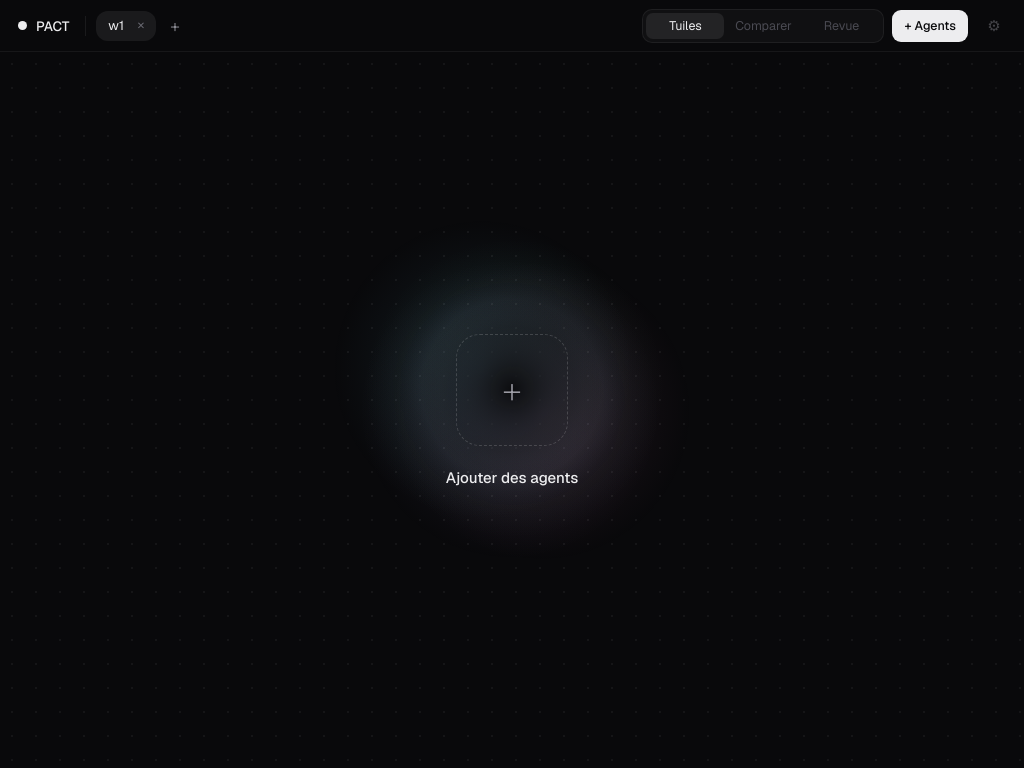
Scenario: App launch flow (US2) › describes the permission levels for the launched CLIs only
Click the button "+ Ajouter des agents" at point(74, 410), box [14,66,1010,754]
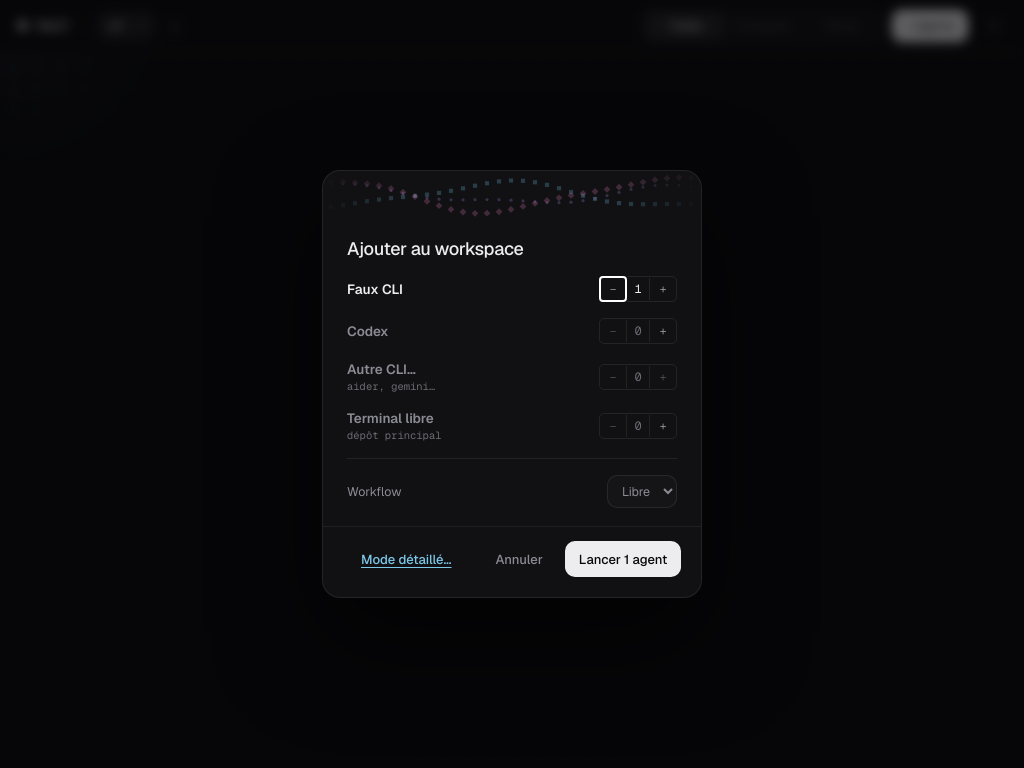
Click the button "Lancer 1 agent" at point(623, 559), box [565,541,681,577]
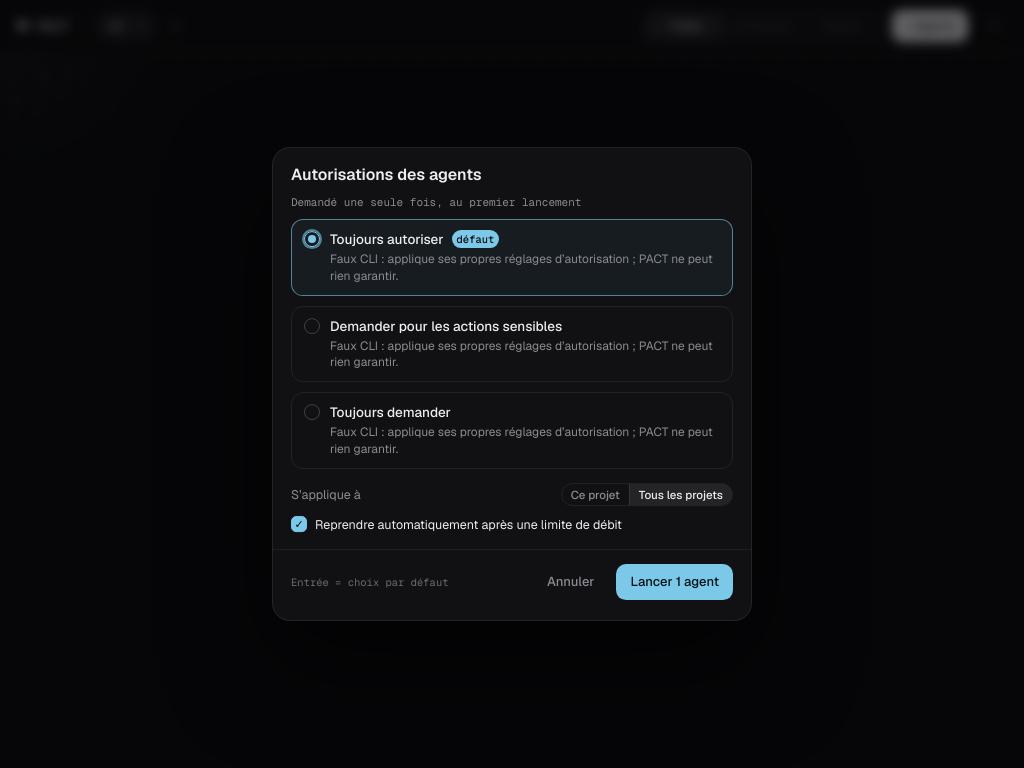
Expected: the dialog "Autorisations des agents" shows "Faux CLI", [330,251,378,267]
